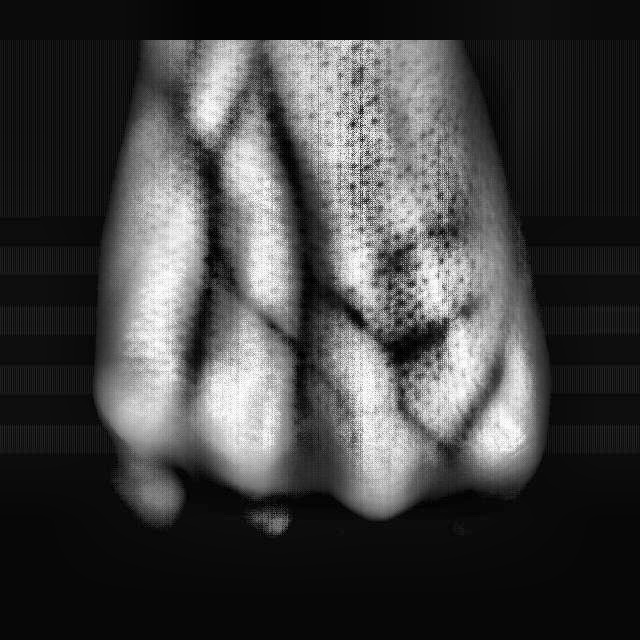Vein: (259, 83, 318, 272)
